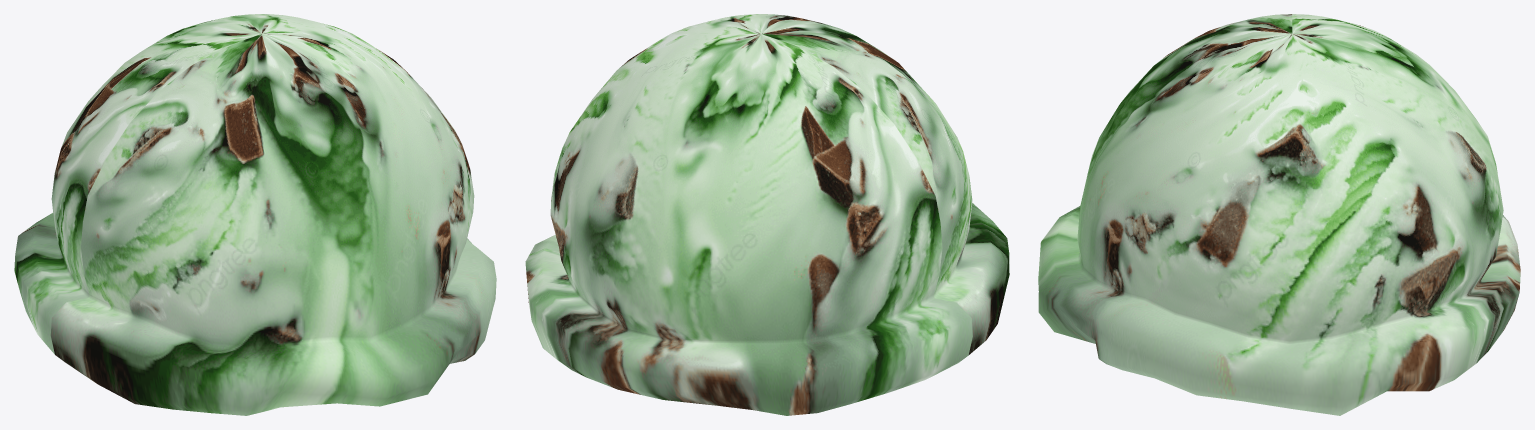
File: scoop-mint.gltf
The picture shows the model from 3 angles, left to right: view 1: azimuth 30°, elevation 25°; view 2: azimuth 150°, elevation 25°; view 3: azimuth 270°, elevation 25°; orthographic projection. The views are drawn at different scales.
Parts seen in each view (by area): view 1: Scoop; view 2: Scoop; view 3: Scoop.
Boxes of the visible parts, x1,y1,x2,y2 form: Scoop: (14,14,496,415); Scoop: (525,14,1009,415); Scoop: (1038,14,1520,415).
Size of the model in its own units: 1.33 by 0.9831 by 1.38.
Materials: 1 (1 with a texture image).
